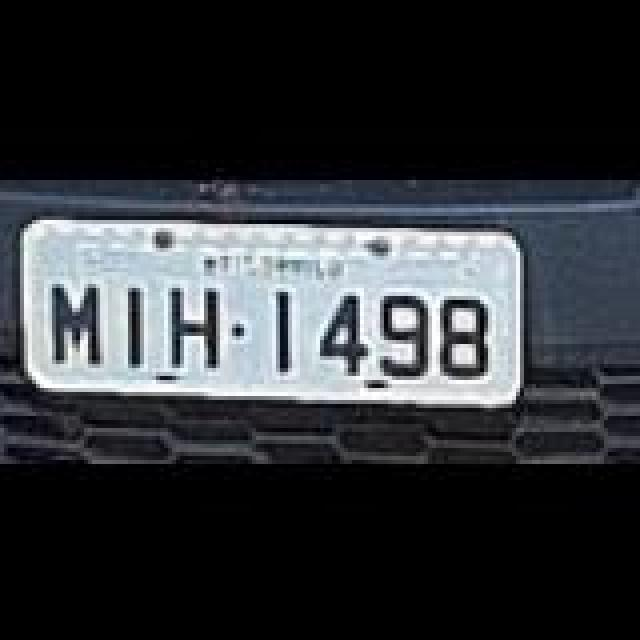1: (120, 282, 152, 366), (274, 290, 294, 374)
4: (322, 290, 374, 374)
8: (438, 294, 490, 378)
9: (382, 290, 434, 374)
H: (170, 282, 222, 366)
M: (50, 278, 102, 362)
